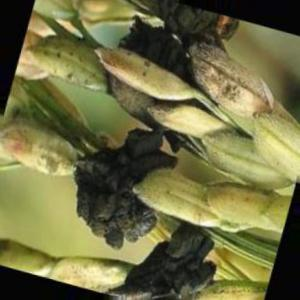Leaf_Scald: (128, 1, 208, 84), (127, 234, 206, 300), (73, 141, 162, 193), (82, 195, 149, 240)
